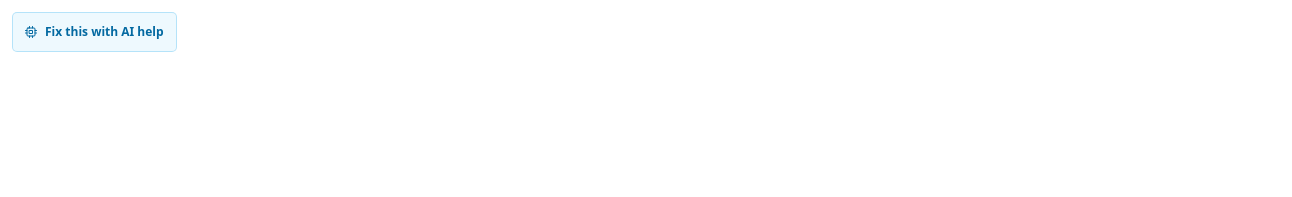
Test: applying a remediation › survives a response where a list came back as null
What coordinates should you click on to do the following:
click the button "Fix this with AI help"
I would click on:
 (94, 32)
Its box is 12,12 -> 177,52.
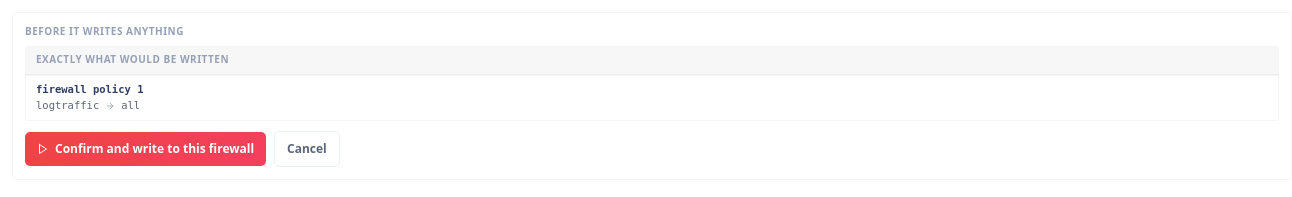
Result: the text "Exactly what would be written" is shown at 26,47 -> 1278,75
Result: the text "logtraffic" is shown at 36,99 -> 99,111
